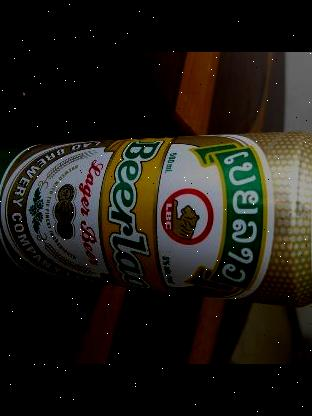Can: (0, 126, 312, 307)
